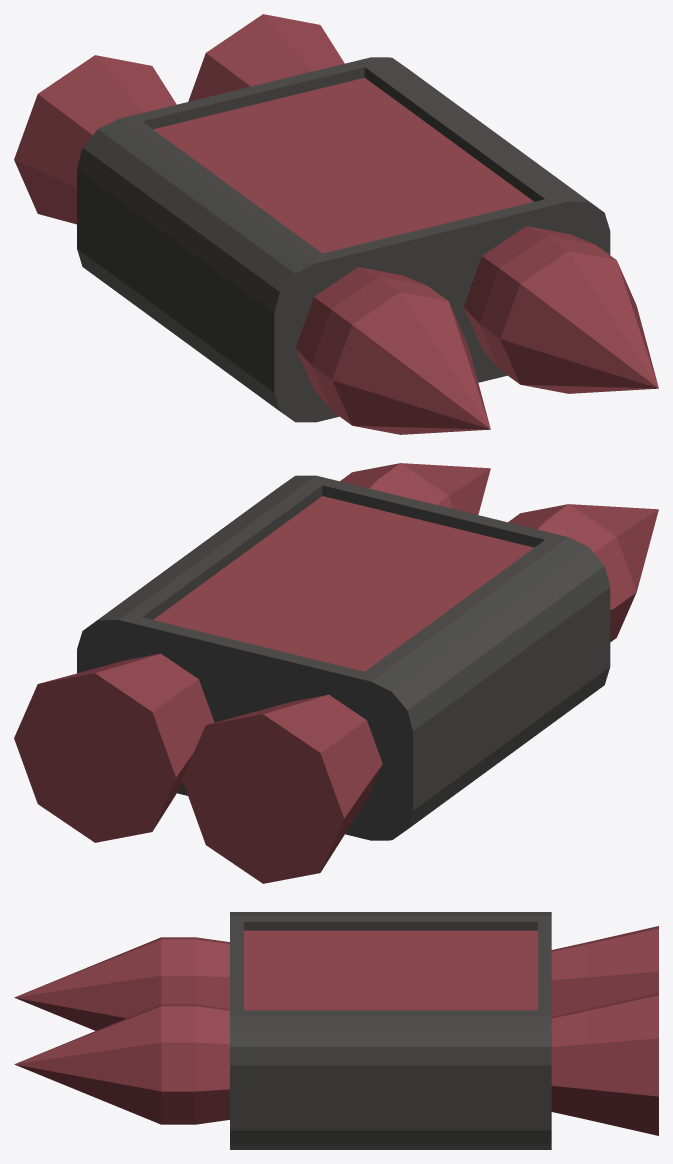
The model's file is LauncherAmmo.glb.
The picture shows the model from 3 angles, top to bottom: view 1: azimuth 30°, elevation 25°; view 2: azimuth 150°, elevation 25°; view 3: azimuth 270°, elevation 25°; orthographic projection. The views are drawn at different scales.
Parts seen in each view (by area): view 1: LauncherAmmo; view 2: LauncherAmmo; view 3: LauncherAmmo.
Boxes of the visible parts, <box> form: LauncherAmmo: <box>14,14,658,434</box>; LauncherAmmo: <box>14,463,658,883</box>; LauncherAmmo: <box>14,912,658,1149</box>.
Size of the model in its own units: 0.07 by 0.0337 by 0.1427.
1 material, 1 textured.
